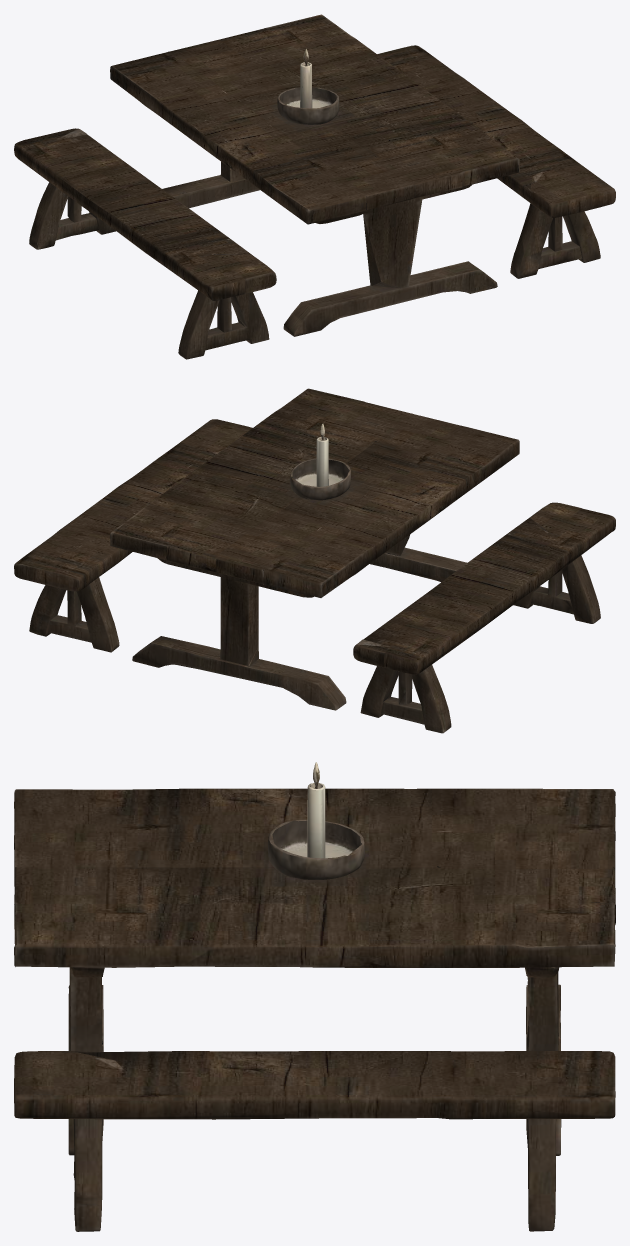
Rendered from trestle_table.glb.
3 renders of one model, top to bottom at view 1: azimuth 30°, elevation 25°; view 2: azimuth 150°, elevation 25°; view 3: azimuth 270°, elevation 25°, orthographic. The views are drawn at different scales.
Parts seen in each view (by area): view 1: trestle_table; view 2: trestle_table; view 3: trestle_table.
Boxes of the visible parts, x1,y1,x2,y2 form: trestle_table: (14,14,615,359); trestle_table: (14,388,615,733); trestle_table: (14,762,615,1231).
Size of the model in its own units: 1.64 by 0.78 by 1.36.
Materials: 1 (1 with a texture image).
